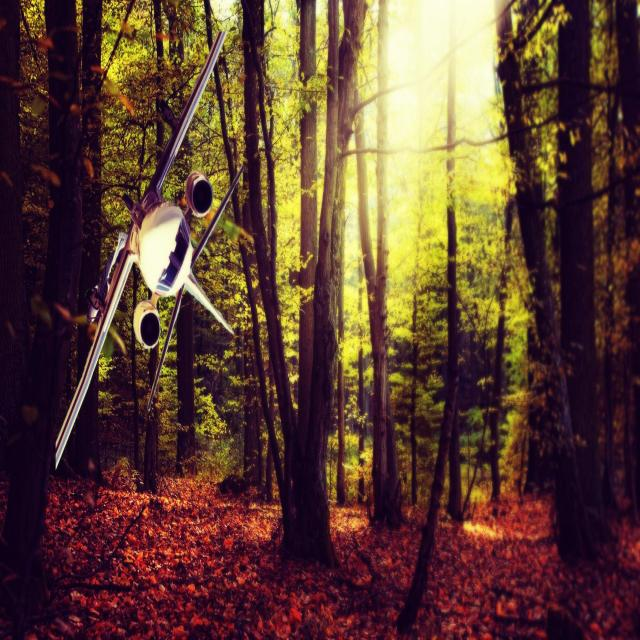airplane: (53, 28, 247, 470)
